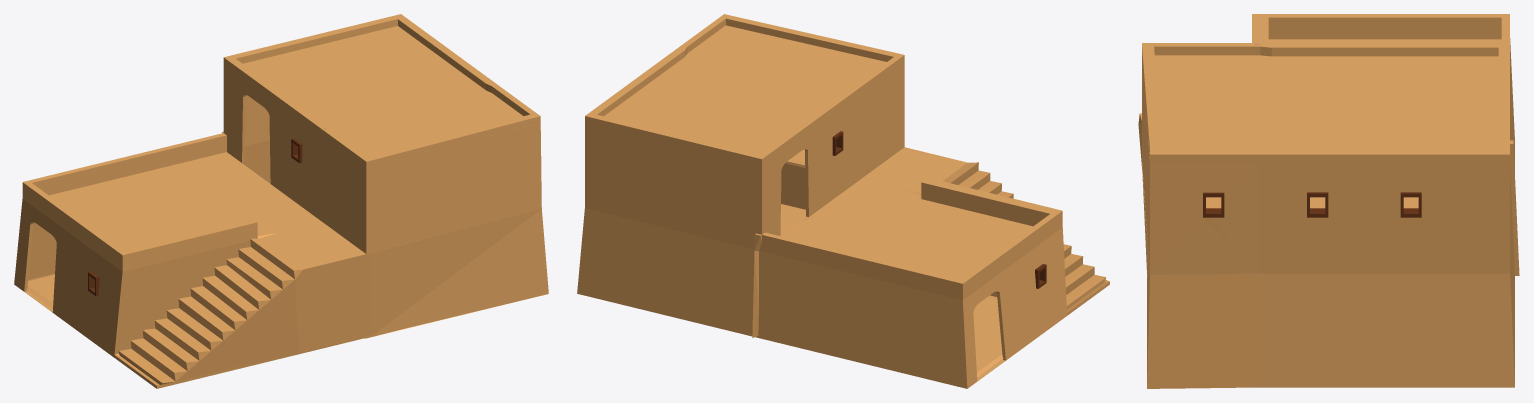
Rendered from Egyptian house 4.fbx.
3 renders of one model, left to right at view 1: azimuth 30°, elevation 25°; view 2: azimuth 150°, elevation 25°; view 3: azimuth 270°, elevation 25°, orthographic. The views are drawn at different scales.
Parts seen in each view (by area): view 1: Egyptian house Var4; view 2: Egyptian house Var4; view 3: Egyptian house Var4.
Boxes of the visible parts, <box> form: Egyptian house Var4: <box>14,14,548,388</box>; Egyptian house Var4: <box>577,14,1109,388</box>; Egyptian house Var4: <box>1138,14,1519,388</box>.
Size of the model in its own units: 1303 by 568 by 851.
